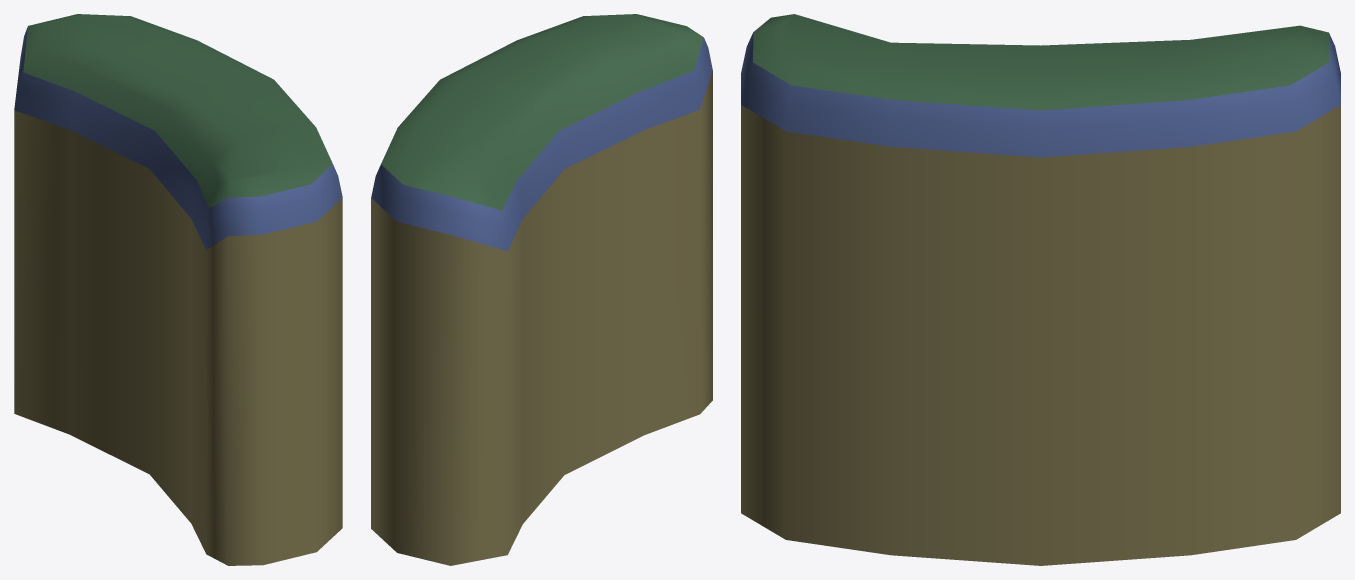
File: Plat_izq.fbx
3 renders of one model, left to right at view 1: azimuth 30°, elevation 25°; view 2: azimuth 150°, elevation 25°; view 3: azimuth 270°, elevation 25°, orthographic. The views are drawn at different scales.
Visible parts, largest first — view 1: polySurface66, polySurface64, polySurface65; view 2: polySurface66, polySurface64, polySurface65; view 3: polySurface66, polySurface64, polySurface65.
Boxes of the visible parts, x1,y1,x2,y2 form: polySurface66: (14, 110, 342, 565); polySurface64: (23, 14, 332, 208); polySurface65: (14, 26, 342, 249); polySurface66: (371, 70, 712, 565); polySurface64: (381, 14, 703, 210); polySurface65: (371, 38, 712, 250); polySurface66: (741, 105, 1340, 565); polySurface64: (753, 14, 1328, 110); polySurface65: (741, 32, 1340, 157).
Bounding box in the file's own units: 2622 × 5421 × 6394.
